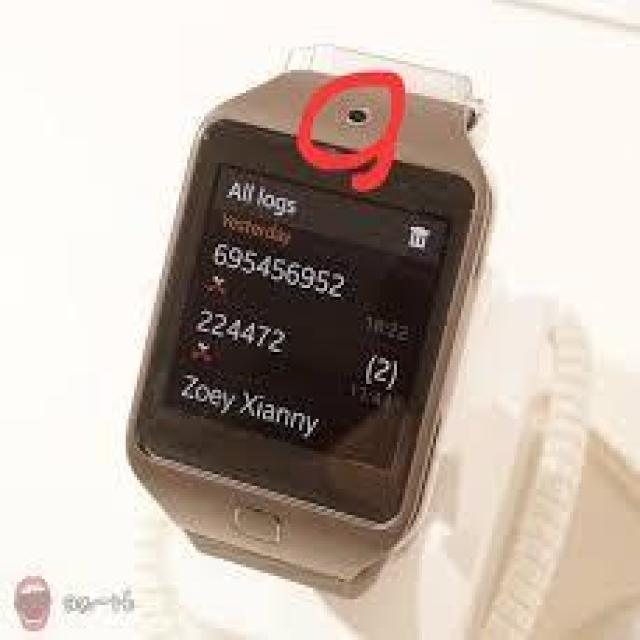hidden camera: (346, 102, 371, 127)
